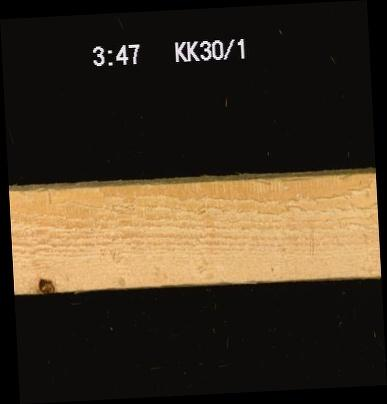edge_knot: (36, 276, 56, 294)
split: (278, 172, 315, 184)
